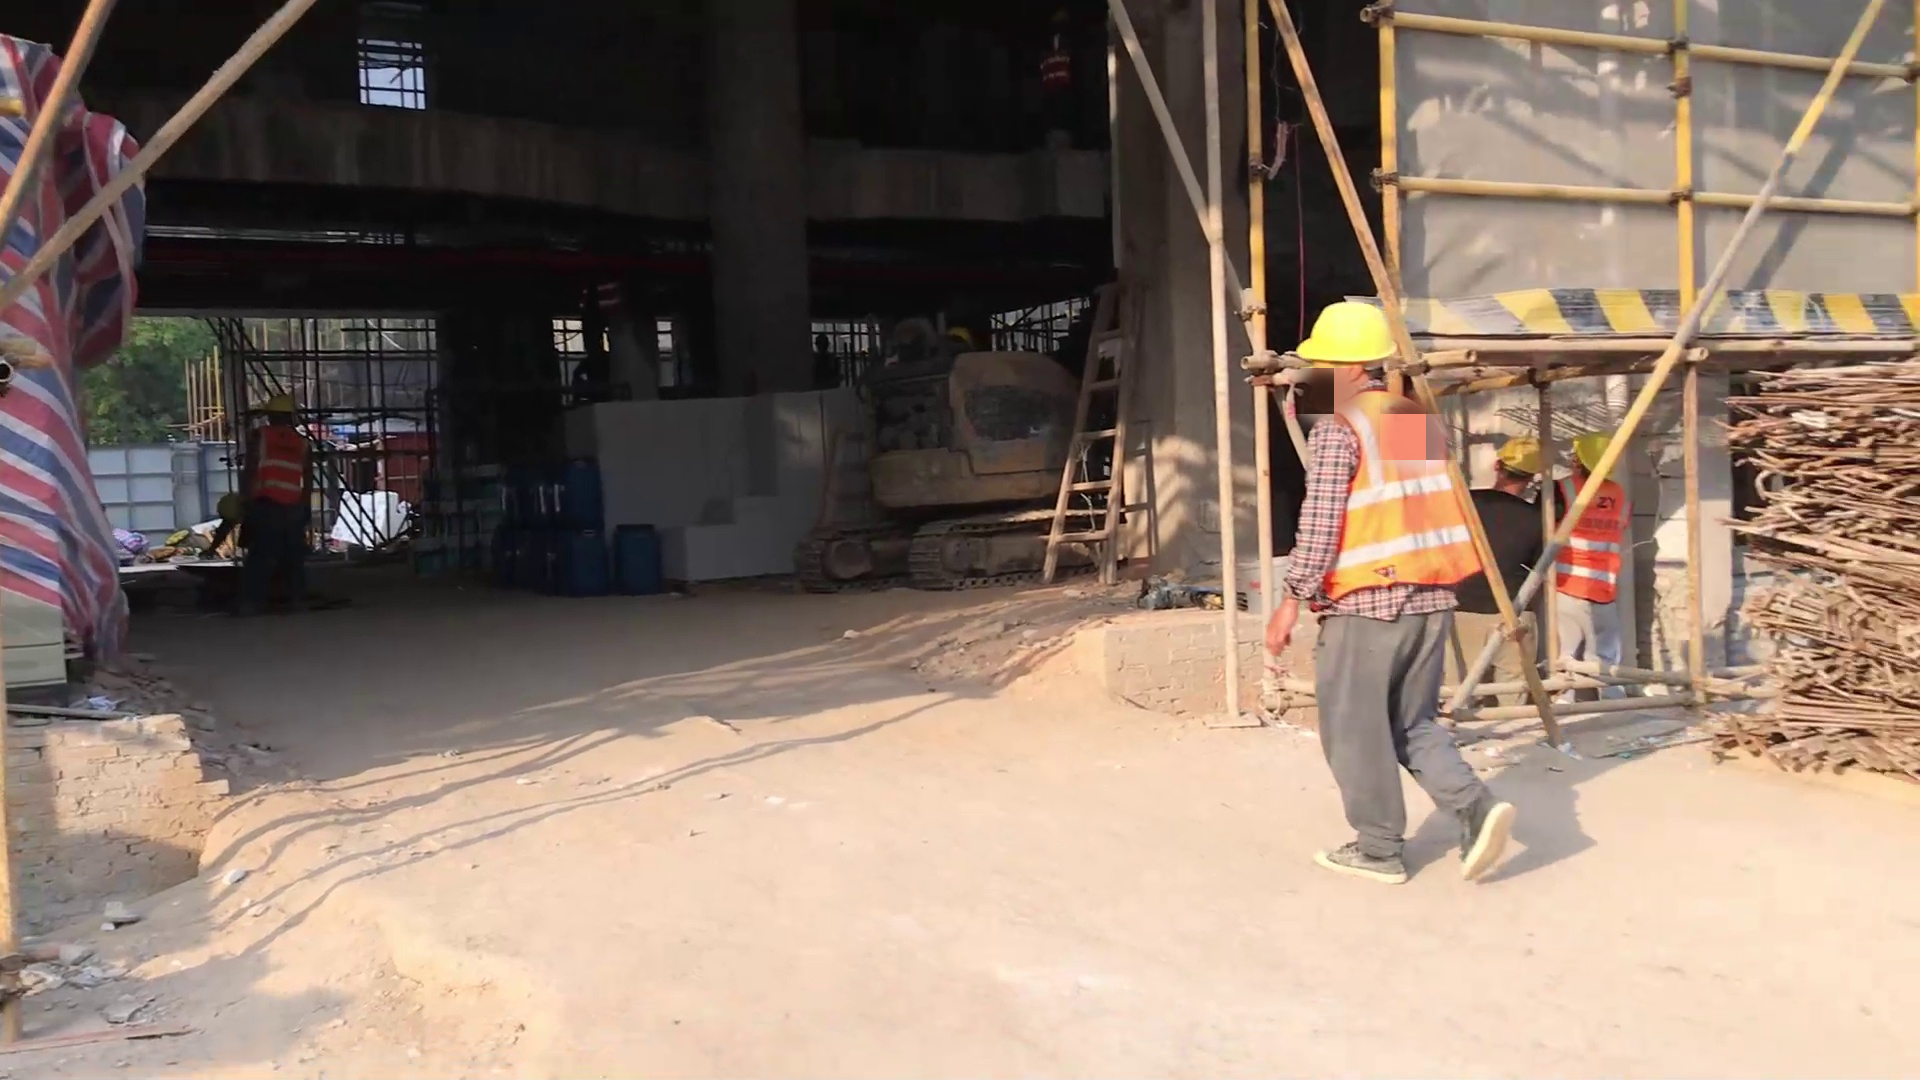helmet: (1294, 298, 1399, 378), (1572, 430, 1628, 491), (1493, 432, 1545, 484), (215, 486, 247, 525), (263, 391, 298, 420), (945, 322, 975, 350)
person: (1262, 294, 1528, 891), (1450, 428, 1550, 725), (1535, 429, 1634, 708), (235, 392, 317, 613)
vest: (1317, 387, 1477, 600), (1551, 470, 1630, 608), (252, 424, 310, 509), (1035, 26, 1076, 87)
